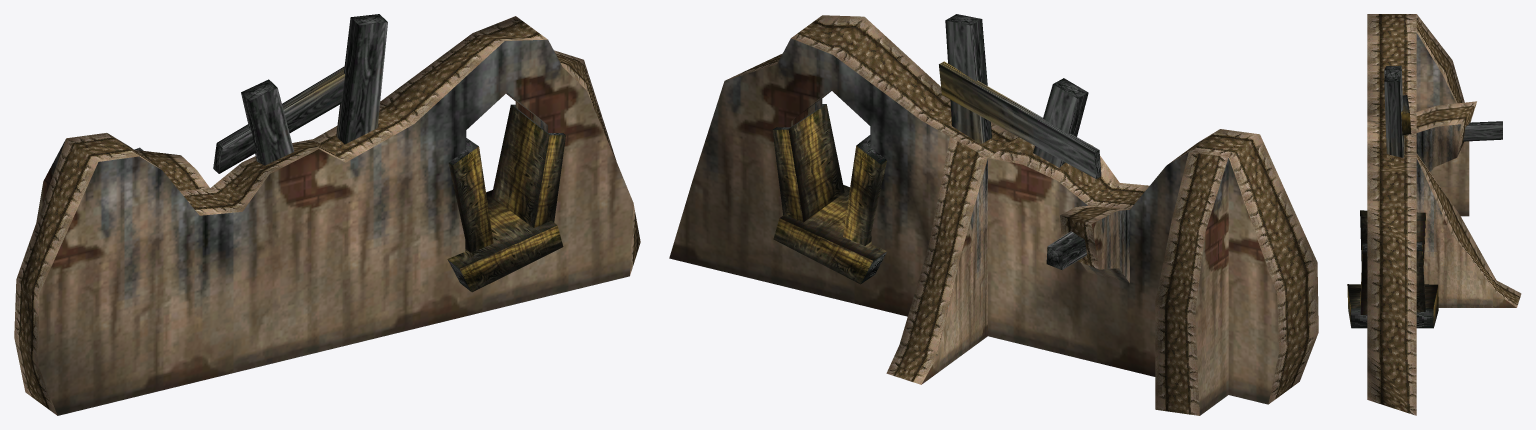
Rendered from CB_BRKN_BUILDING02_CM.fbx.
3 renders of one model, left to right at view 1: azimuth 30°, elevation 25°; view 2: azimuth 150°, elevation 25°; view 3: azimuth 270°, elevation 25°, orthographic. The views are drawn at different scales.
Parts seen in each view (by area): view 1: CB_BRKN_BUILDING02_CM; view 2: CB_BRKN_BUILDING02_CM; view 3: CB_BRKN_BUILDING02_CM.
Part boxes in pixels (bbox=[...]): CB_BRKN_BUILDING02_CM: bbox=[14, 14, 640, 415]; CB_BRKN_BUILDING02_CM: bbox=[669, 14, 1318, 415]; CB_BRKN_BUILDING02_CM: bbox=[1347, 14, 1521, 415].
Bounding box in the file's own units: 155322 × 71389 × 48127.
5 materials, 5 textured.
